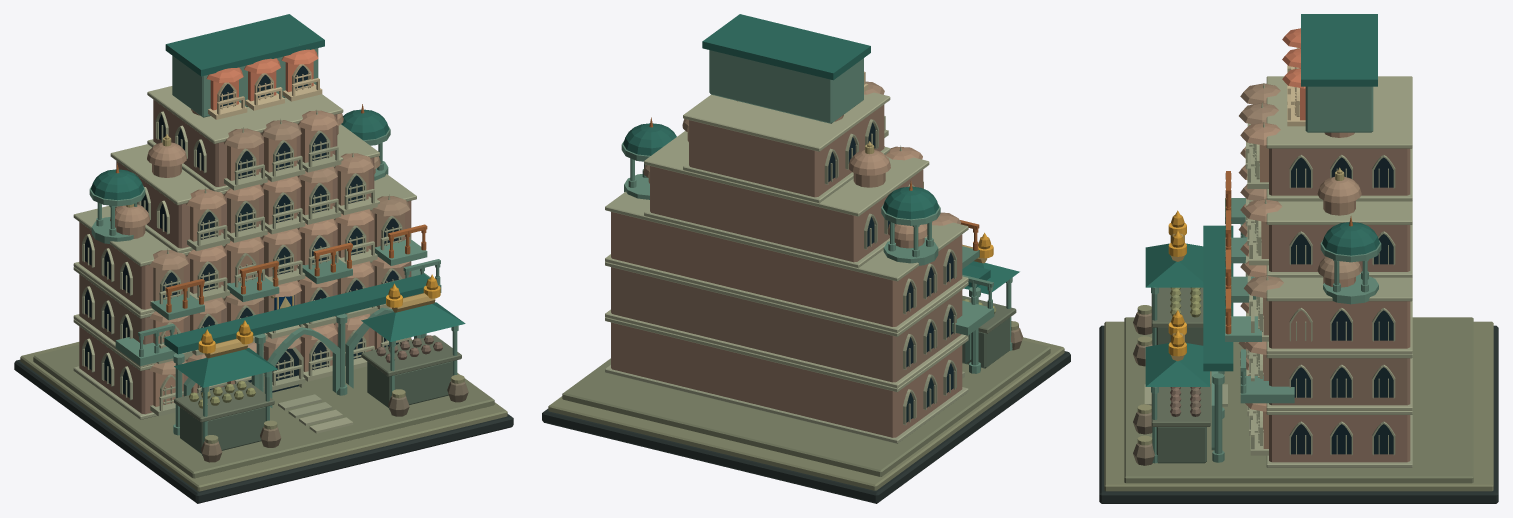
The picture shows the model from 3 angles, left to right: view 1: azimuth 30°, elevation 25°; view 2: azimuth 150°, elevation 25°; view 3: azimuth 270°, elevation 25°; orthographic projection. The views are drawn at different scales.
Visible parts, largest first — view 1: market_L7_0, market_L7_1; view 2: market_L7_0; view 3: market_L7_0, market_L7_1.
Boxes of the visible parts, box(x1,y1,x2,y2) form: market_L7_0: box(14, 14, 513, 503); market_L7_1: box(115, 104, 440, 353); market_L7_0: box(542, 14, 1070, 503); market_L7_0: box(1099, 14, 1498, 503); market_L7_1: box(1168, 167, 1352, 356).
Size of the model in its own units: 5.6 by 5.79 by 5.6.
